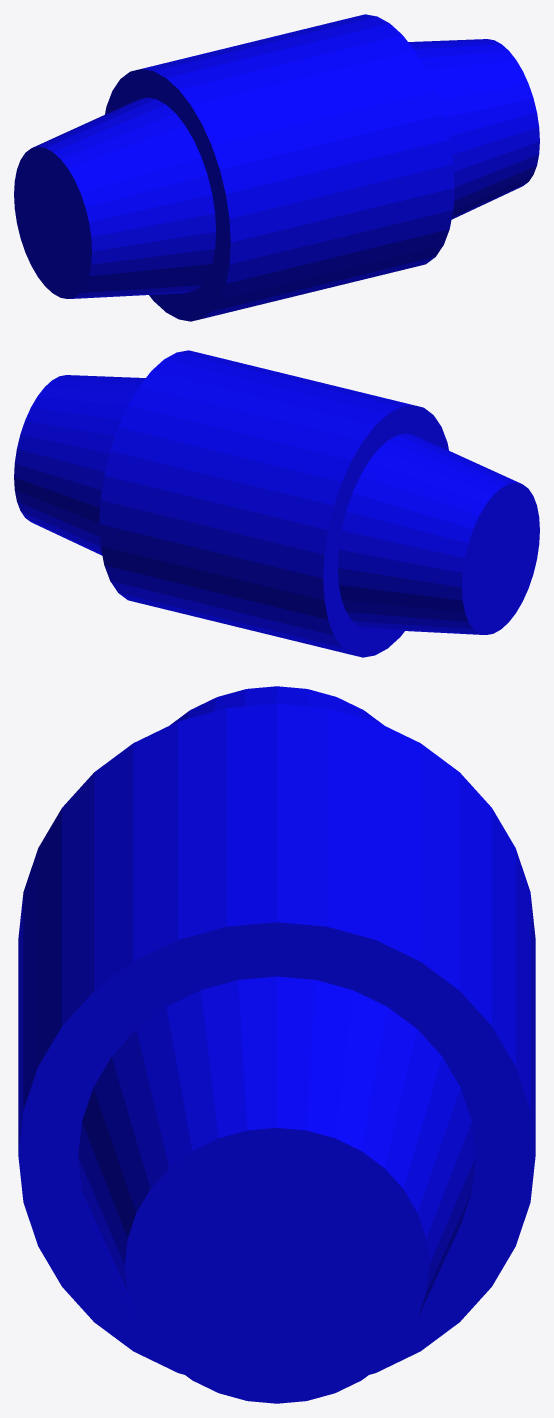
The model's file is Torpedo.obj.
3 renders of one model, top to bottom at view 1: azimuth 30°, elevation 25°; view 2: azimuth 150°, elevation 25°; view 3: azimuth 270°, elevation 25°, orthographic. The views are drawn at different scales.
Visible parts, largest first — view 1: Cylinder; view 2: Cylinder; view 3: Cylinder.
Boxes of the visible parts, <box> form: Cylinder: <box>14,14,539,321</box>; Cylinder: <box>14,350,539,657</box>; Cylinder: <box>18,686,535,1403</box>.
Size of the model in its own units: 4.01 by 2 by 2.
